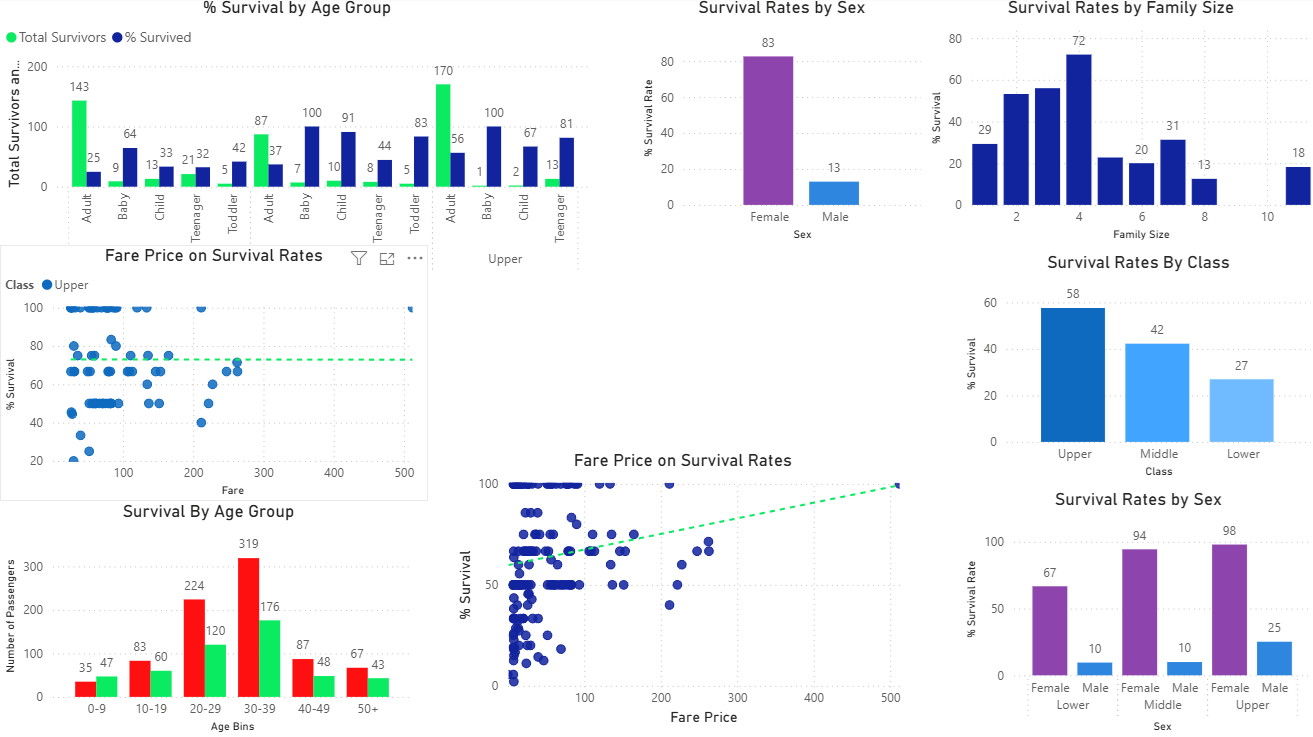

What the dashboard file says about the page in this screenshot:
{"tool":"powerbi","page":{"name":"Survival Factors","canvas":[1280,720],"ordinal":1},"visuals":[{"type":"clusteredColumnChart","title":"% Survival by Age Group","fields":{"Y":["gold fact_table.Total Survivors","gold fact_table.Survival Rate"],"Category":["gold fact_table.Class","gold fact_table.AgeGroup"]},"box":[0,0,577.8,289.8],"z":0},{"type":"clusteredColumnChart","title":"Survival Rates By Class","fields":{"Y":["gold fact_table.Survival Rate"],"Category":["gold fact_table.Class"]},"box":[934.7,248,345.3,223.7],"z":1000},{"type":"columnChart","title":"Survival Rates by Sex","fields":{"Category":["gold fact_table.Sex"],"Y":["gold fact_table.Survival Rate"]},"box":[620.5,0,280.1,241.2],"z":2000},{"type":"clusteredColumnChart","title":"Survival By Age Group","fields":{"Y":["CountNonNull(gold fact_table.PassengerID)"],"Category":["gold fact_table.Age Bins"],"Series":["gold fact_table.Status"]},"box":[0,490.2,405.6,229.5],"z":3000},{"type":"columnChart","title":"Survival Rates by Sex","fields":{"Category":["gold fact_table.Class","gold fact_table.Sex"],"Y":["gold fact_table.Survival Rate"]},"box":[934.7,478.5,345.3,241.2],"z":4000},{"type":"clusteredColumnChart","title":"Survival Rates by Family Size","fields":{"Y":["gold fact_table.Survival Rate"],"Category":["gold fact_table.Family Size"]},"box":[900.7,0,379.3,241.2],"z":5000},{"type":"scatterChart","title":"Fare Price on Survival Rates","fields":{"Y":["gold fact_table.Survival Rate"],"X":["gold fact_table.Fare"]},"box":[438.7,440.6,451.3,272.3],"z":5001},{"type":"scatterChart","title":"Fare Price on Survival Rates","fields":{"Y":["gold fact_table.Survival Rate"],"X":["gold fact_table.Fare"],"Series":["gold fact_table.Class"]},"box":[0,241.2,416.3,249],"z":5002}]}

Visuals, with their boxes in screenshot pixels (x1, y1, x2, y2), scaled from the page's 1280x720 canvas onto the 1313x737 screenshot:
"% Survival by Age Group" clusteredColumnChart: [0, 0, 593, 297]
"Survival Rates By Class" clusteredColumnChart: [959, 254, 1312, 483]
"Survival Rates by Sex" columnChart: [636, 0, 924, 247]
"Survival By Age Group" clusteredColumnChart: [0, 502, 416, 736]
"Survival Rates by Sex" columnChart: [959, 490, 1312, 736]
"Survival Rates by Family Size" clusteredColumnChart: [924, 0, 1312, 247]
"Fare Price on Survival Rates" scatterChart: [450, 451, 913, 730]
"Fare Price on Survival Rates" scatterChart: [0, 247, 427, 502]
